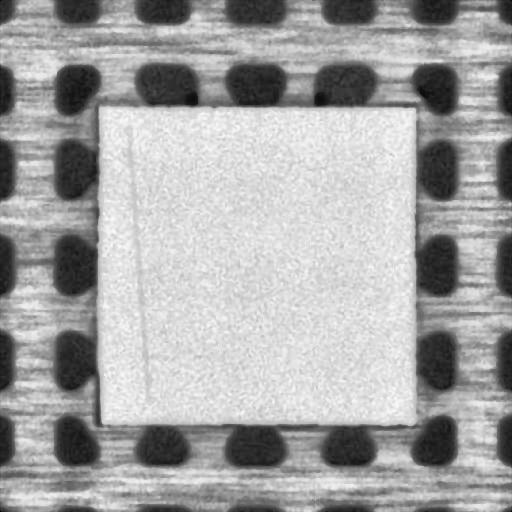DIE_CRACK: (127, 125, 147, 402)
